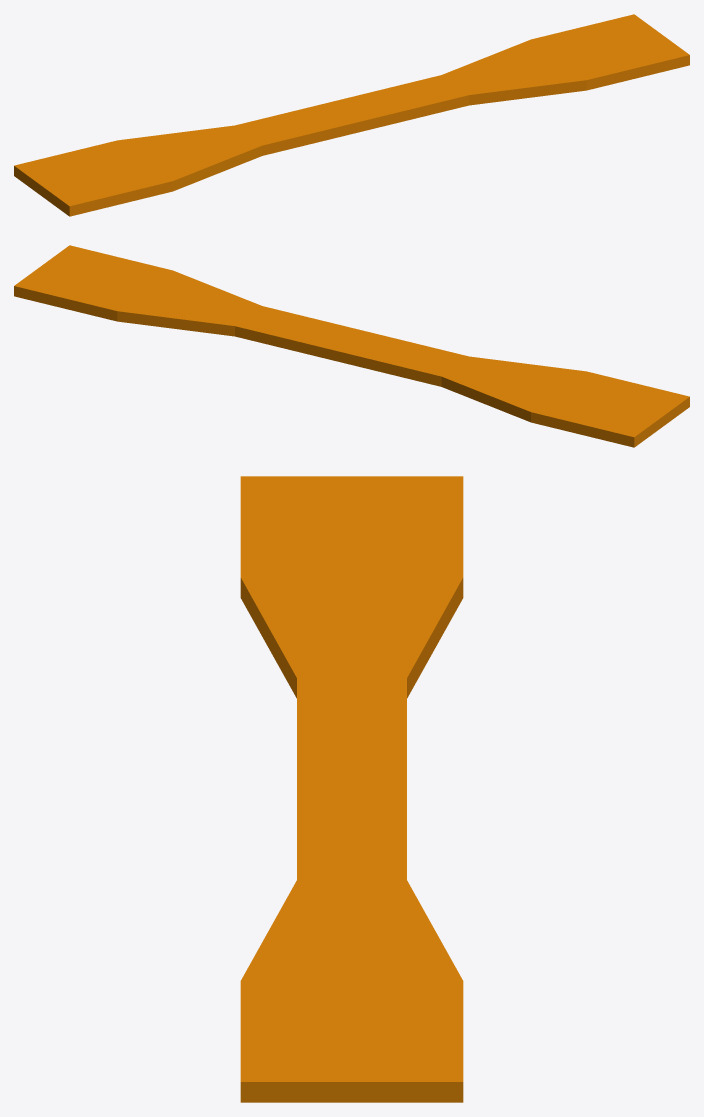
File: LPSciFi_SingleRoadLine.fbx
3 views of the same model, one above another, from view 1: azimuth 30°, elevation 25°; view 2: azimuth 150°, elevation 25°; view 3: azimuth 270°, elevation 25° (orthographic). The views are drawn at different scales.
Visible parts, largest first — view 1: SingleRoadLine; view 2: SingleRoadLine; view 3: SingleRoadLine.
Part boxes in pixels (x1,y1,x2,y2): SingleRoadLine: [14, 14, 689, 216]; SingleRoadLine: [14, 245, 689, 447]; SingleRoadLine: [240, 476, 463, 1102].
Size of the model in its own units: 150 by 2.4 by 23.3.
